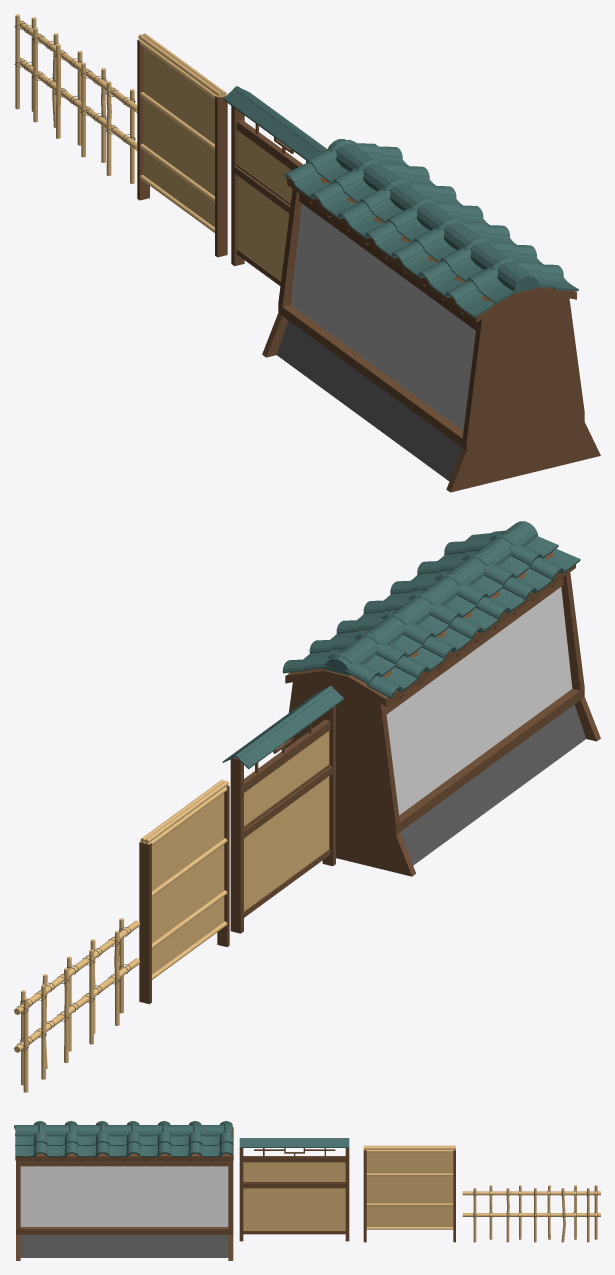
Rendered from JJ Garden Wall V3 - Export.fbx.
3 views of the same model, one above another, from view 1: azimuth 30°, elevation 25°; view 2: azimuth 150°, elevation 25°; view 3: azimuth 270°, elevation 25° (orthographic). The views are drawn at different scales.
Visible parts, largest first — view 1: Garden Wall Large, Garden Fence Large, Garden Wall Medium, Garden Fence Small; view 2: Garden Wall Large, Garden Wall Medium, Garden Fence Large, Garden Fence Small; view 3: Garden Wall Large, Garden Wall Medium, Garden Fence Large, Garden Fence Small.
Boxes of the visible parts, bbox=[...] form: Garden Wall Large: bbox=[262, 139, 600, 492]; Garden Fence Large: bbox=[137, 33, 227, 257]; Garden Wall Medium: bbox=[223, 86, 327, 285]; Garden Fence Small: bbox=[14, 14, 137, 183]; Garden Wall Large: bbox=[282, 521, 600, 876]; Garden Wall Medium: bbox=[222, 686, 343, 933]; Garden Fence Large: bbox=[139, 779, 229, 1004]; Garden Fence Small: bbox=[14, 918, 140, 1092]; Garden Wall Large: bbox=[14, 1121, 233, 1260]; Garden Wall Medium: bbox=[239, 1138, 349, 1241]; Garden Fence Large: bbox=[363, 1145, 455, 1242]; Garden Fence Small: bbox=[462, 1185, 600, 1242].
Bounding box in the file's own units: 210 × 269 × 1228.
